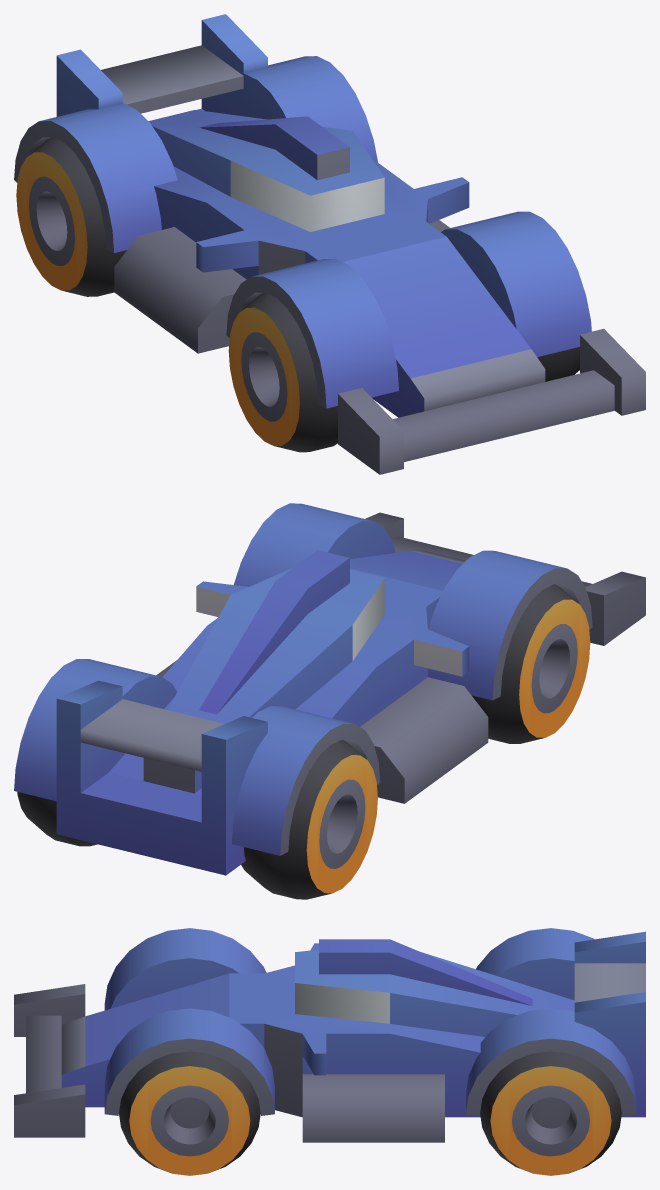
Rendered from race-future.fbx.
3 renders of one model, top to bottom at view 1: azimuth 30°, elevation 25°; view 2: azimuth 150°, elevation 25°; view 3: azimuth 270°, elevation 25°, orthographic. The views are drawn at different scales.
Parts seen in each view (by area): view 1: body, wheel-front-right, wheel-back-right, wheel-front-left; view 2: body, wheel-back-right, wheel-front-right, wheel-back-left; view 3: body, wheel-back-left, wheel-front-left.
Boxes of the visible parts, x1,y1,x2,y2 form: body: [14, 14, 645, 474]; wheel-front-right: [228, 292, 337, 452]; wheel-back-right: [16, 137, 126, 296]; wheel-front-left: [537, 347, 579, 381]; body: [14, 503, 645, 875]; wheel-back-right: [241, 740, 377, 899]; wheel-front-right: [472, 584, 590, 743]; wheel-back-left: [17, 792, 97, 846]; body: [14, 928, 645, 1142]; wheel-back-left: [480, 1051, 621, 1175]; wheel-front-left: [119, 1051, 260, 1175].
Bounding box in the file's own units: 120 × 83.25 × 266.
Materials: 1 (1 with a texture image).
